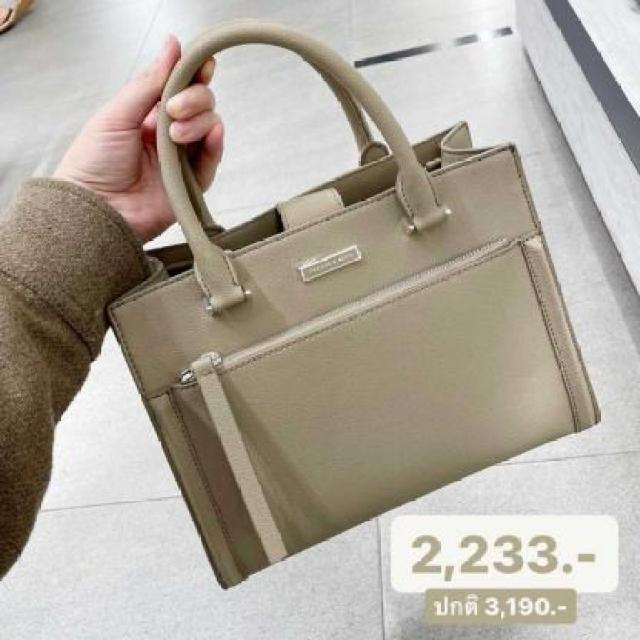Bag: (100, 8, 632, 607)
